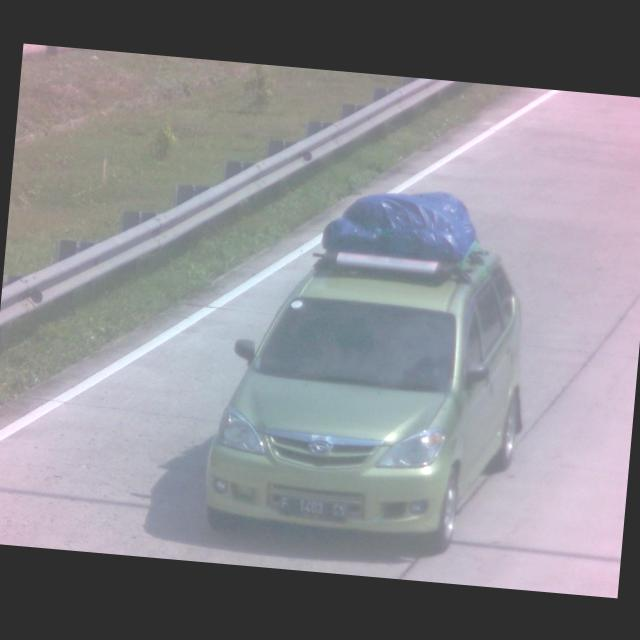plate: (277, 488, 348, 526)
